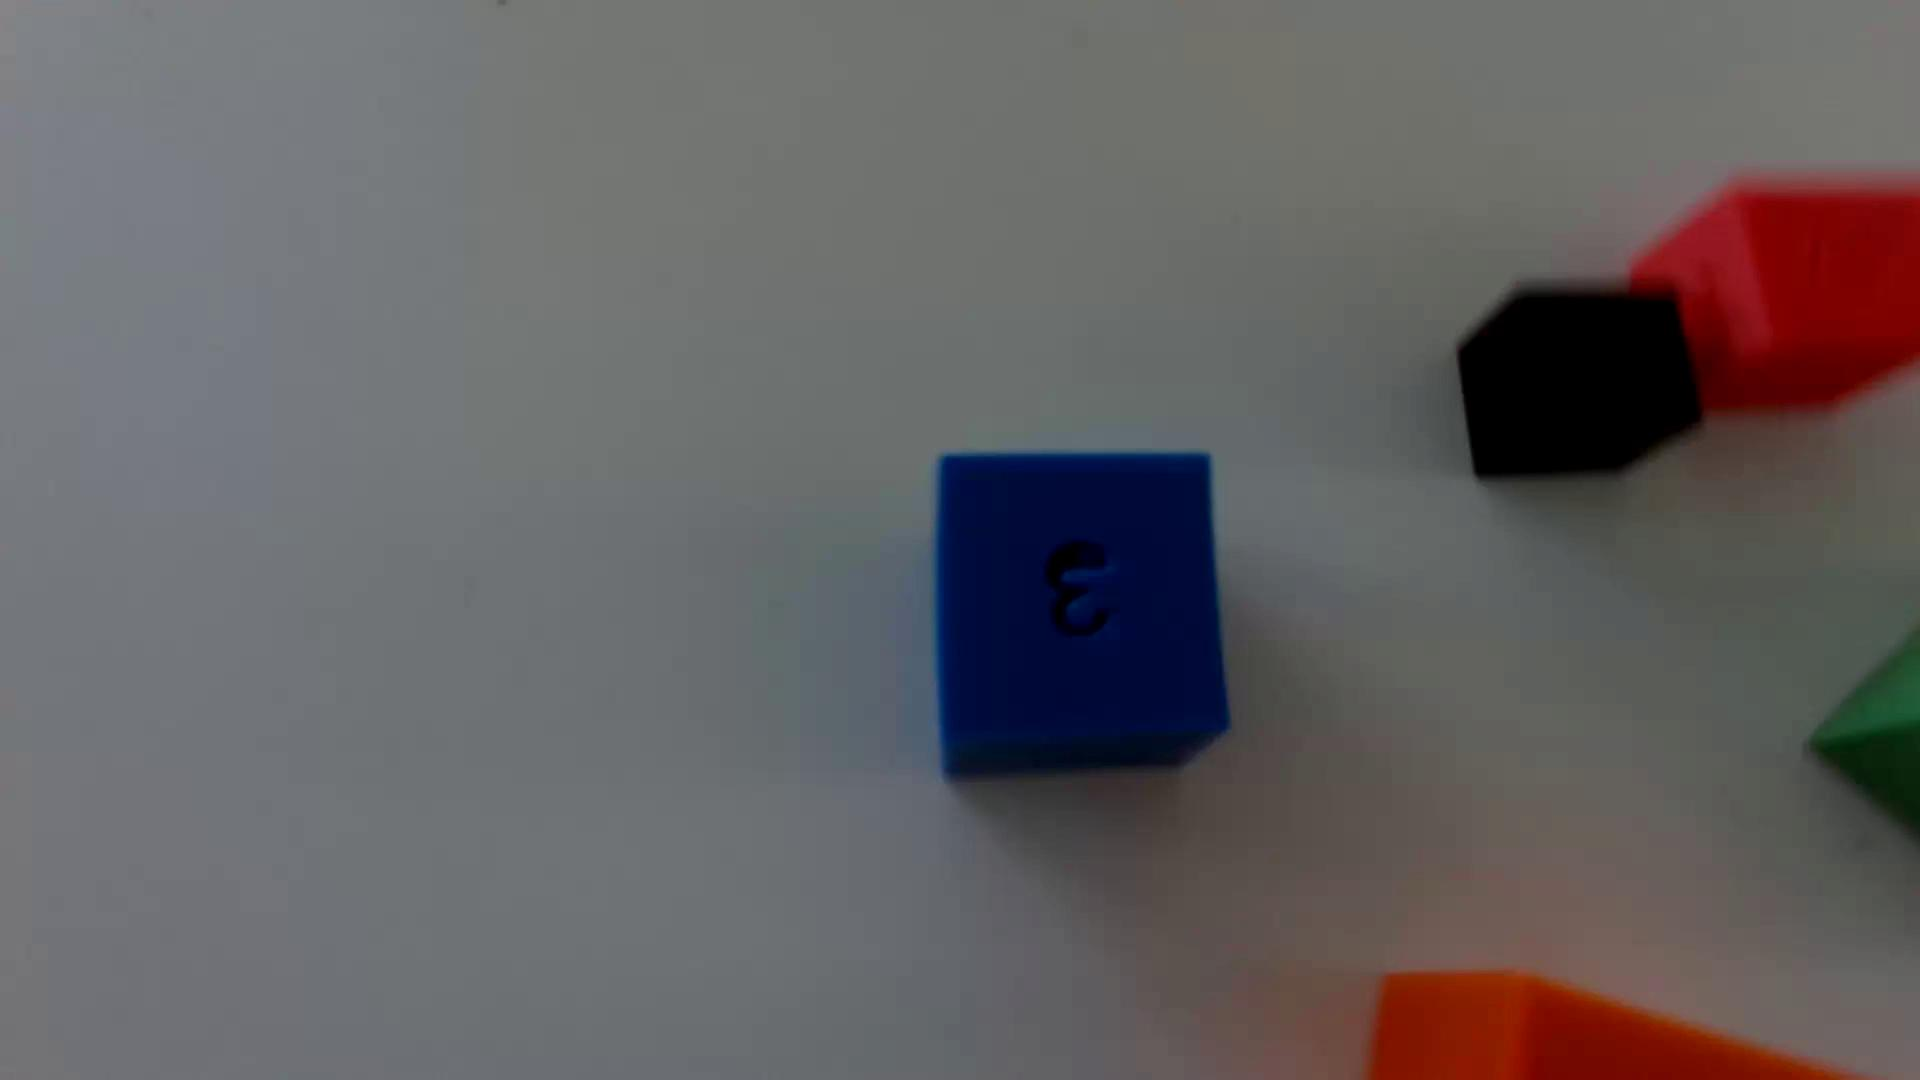black: (1456, 287, 1701, 481)
blue: (935, 454, 1229, 779)
green: (1811, 632, 1920, 837)
orange: (1367, 971, 1849, 1080)
red: (1629, 182, 1920, 415)
